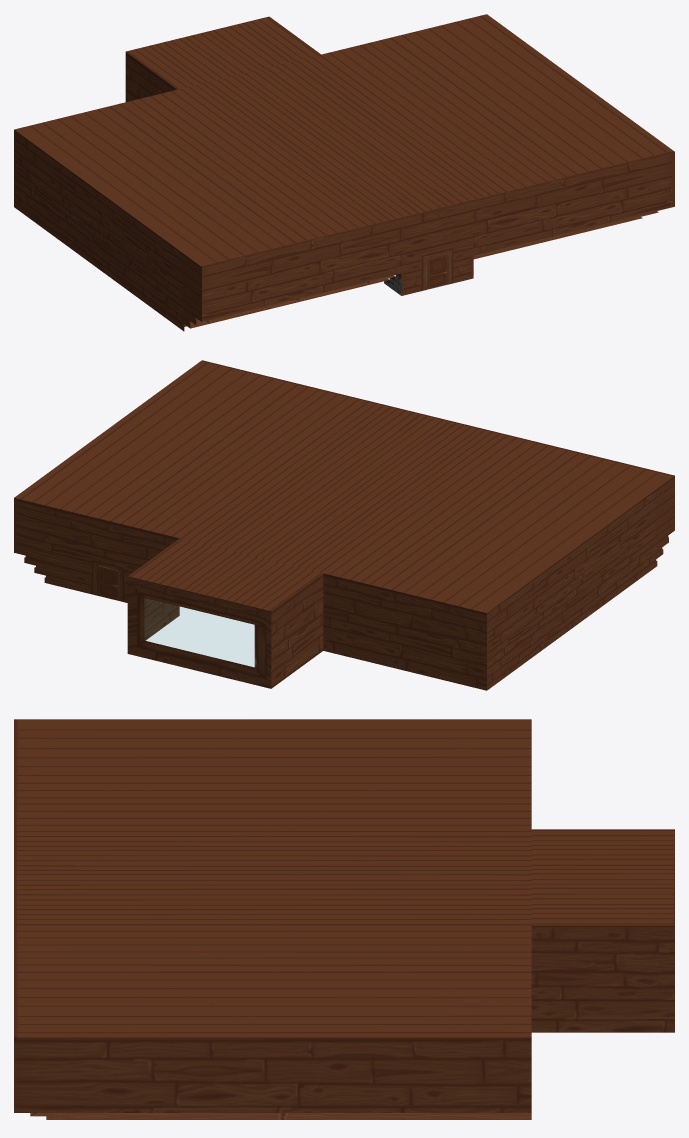
File: EveryoneLovesFacials Walls.fbx
3 renders of one model, top to bottom at view 1: azimuth 30°, elevation 25°; view 2: azimuth 150°, elevation 25°; view 3: azimuth 270°, elevation 25°, orthographic. The views are drawn at different scales.
Parts seen in each view (by area): view 1: Main Building.001; view 2: Main Building.001; view 3: Main Building.001.
Boxes of the visible parts, <box> form: Main Building.001: <box>14,14,674,331</box>; Main Building.001: <box>14,360,674,690</box>; Main Building.001: <box>14,719,674,1119</box>.
Bounding box in the file's own units: 2840 × 445 × 2497.
Materials: 2 (1 with a texture image).
